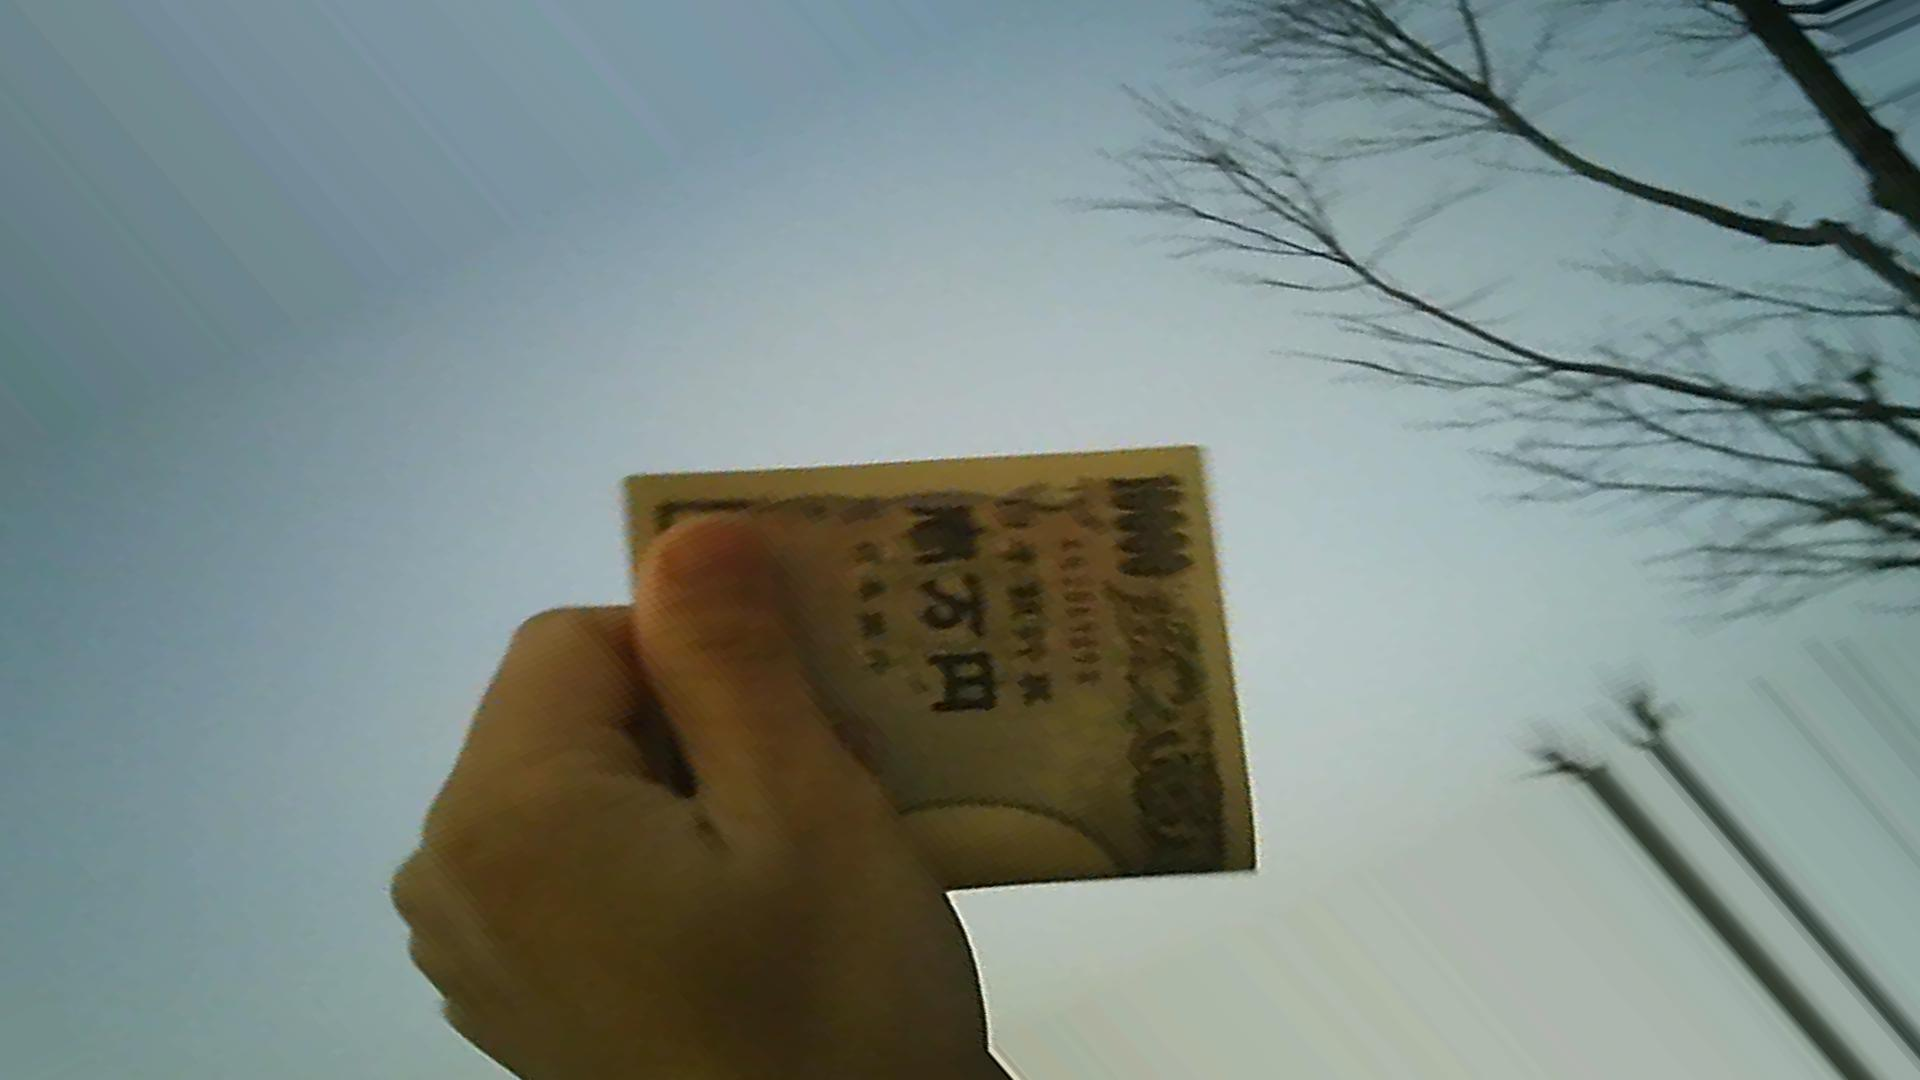10,000 Yen: (615, 450, 1270, 891)
